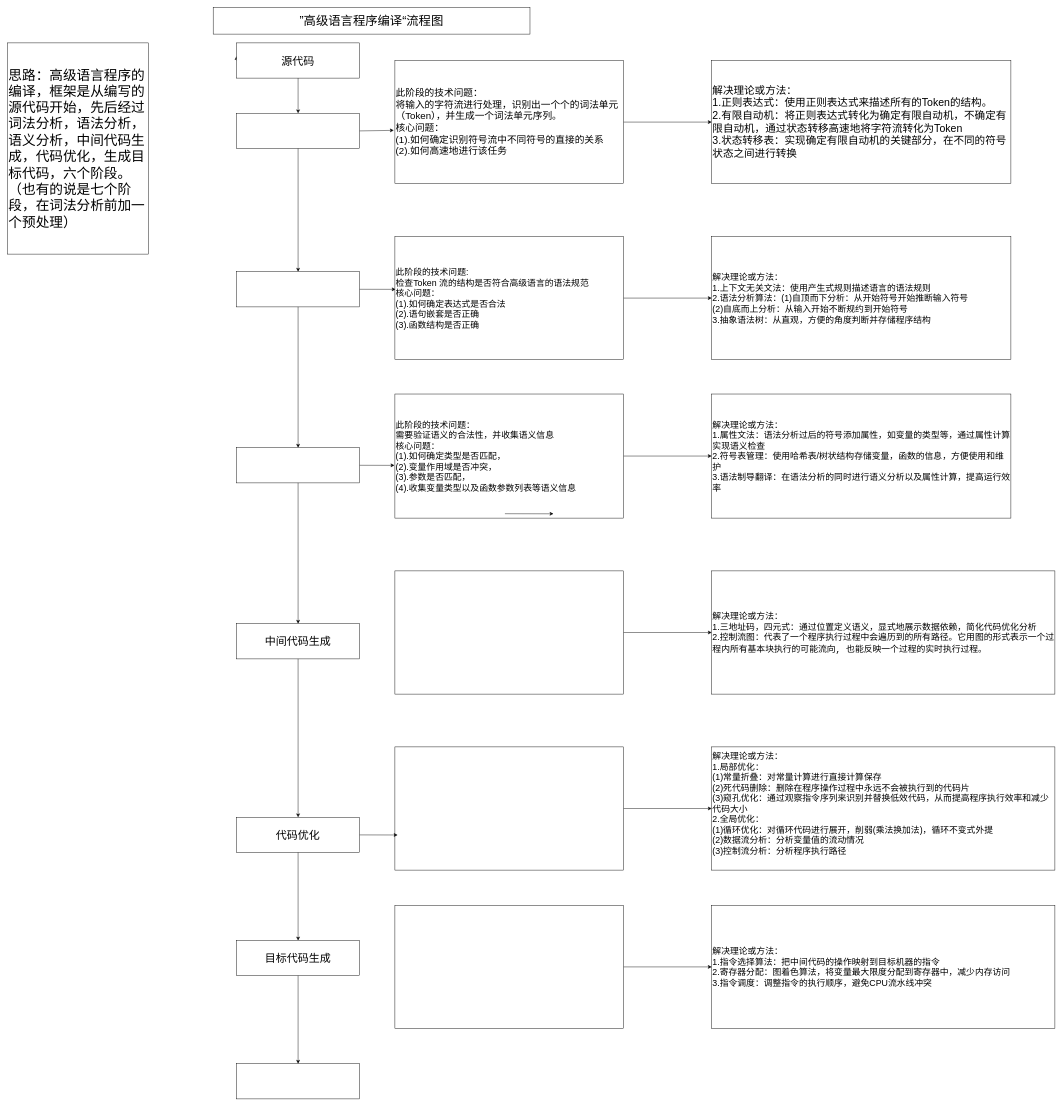
Image size: 1063x1107. Some labels were removed from this diagram. The shapes that lost their labels are listed below. From the top down, each one's box as (x1, y1, x2, y2) in pixels, then its label:
(236, 113, 360, 148): 词法分析
(236, 271, 360, 307): 语法分析
(236, 447, 360, 483): 语义分析
(394, 570, 624, 694): 此阶段的技术问题： 将抽象语法树转换成独立于机器语言和源语言的中间表示 核心问题： (1)避免直接生成目标代码带来的跨平台问题
(394, 746, 624, 870): 此阶段的技术问题： 如何在不改变程序语义的前提下，提高代码的执行效率和存储空间利用率
(394, 905, 624, 1028): 此阶段的技术问题： 将优化后的中间代码转换成目标机器的指令，核心问题是寄存器调用以及指令集差异
(236, 1063, 360, 1099): 目标程序
